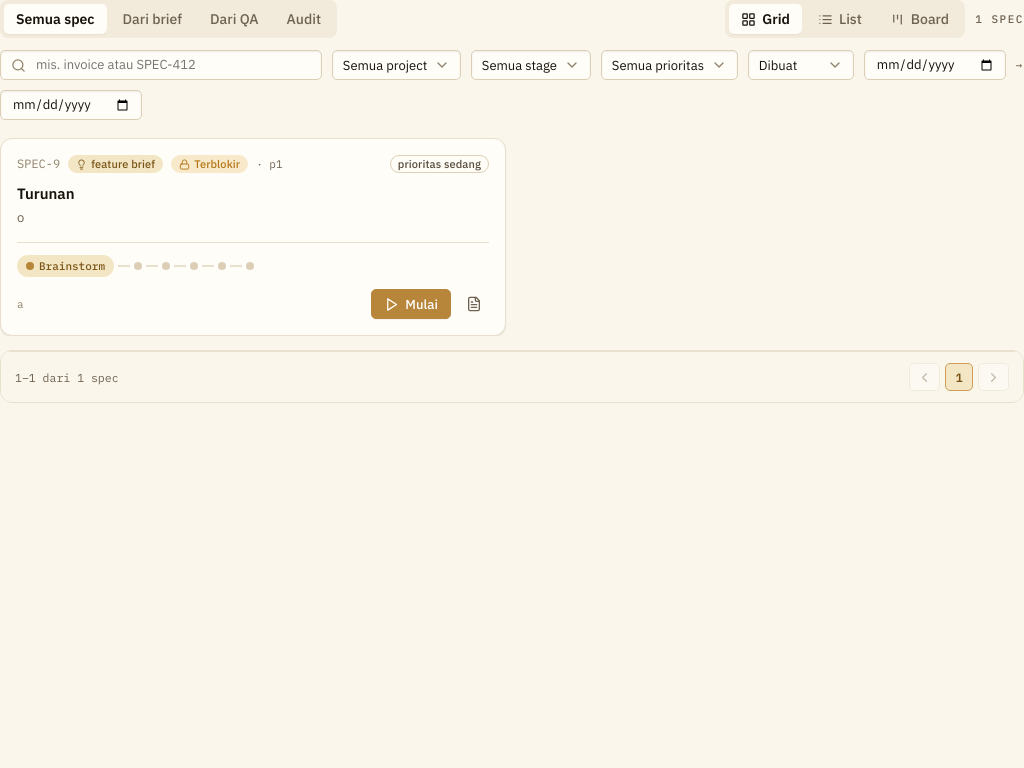
Test: BacklogScreen · badge Terblokir (SPEC-447) › detail menyebut siapa yang ditunggu dan alasannya
What coordinates should you click on to do the following:
click the button "Turunan"
I would click on:
 (46, 194)
Its box is [17,184,75,203].
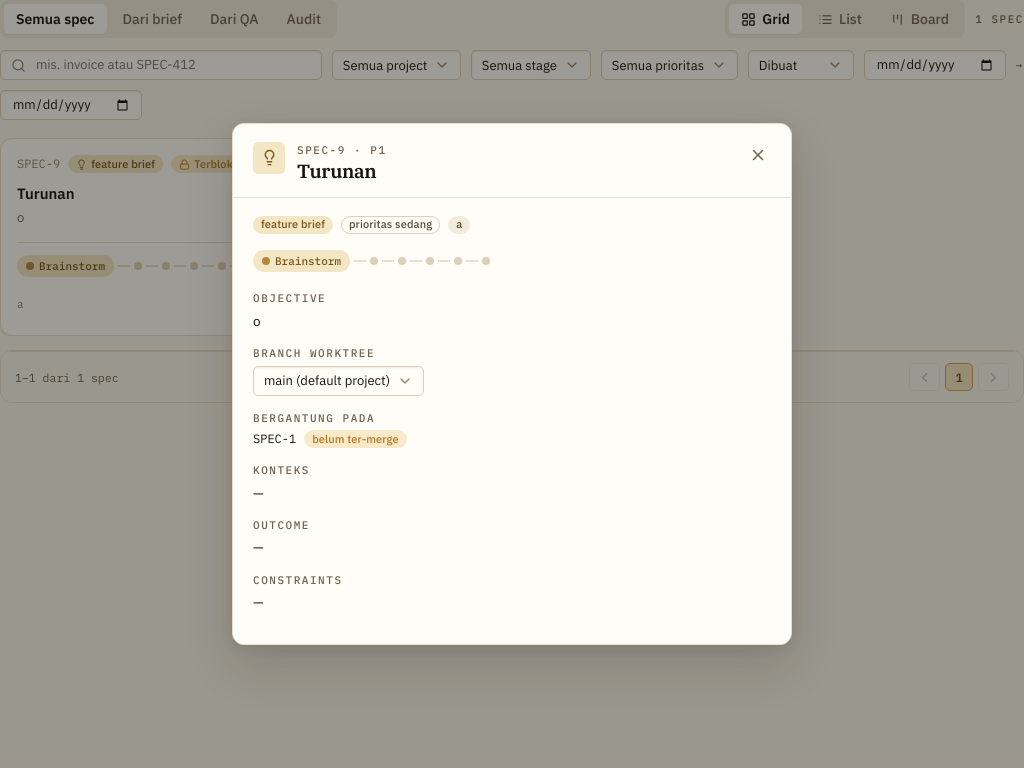
Expected: the text "SPEC-1" is shown, [253,430,296,448]
Expected: the text "belum ter-merge" is shown, [304,430,407,448]
